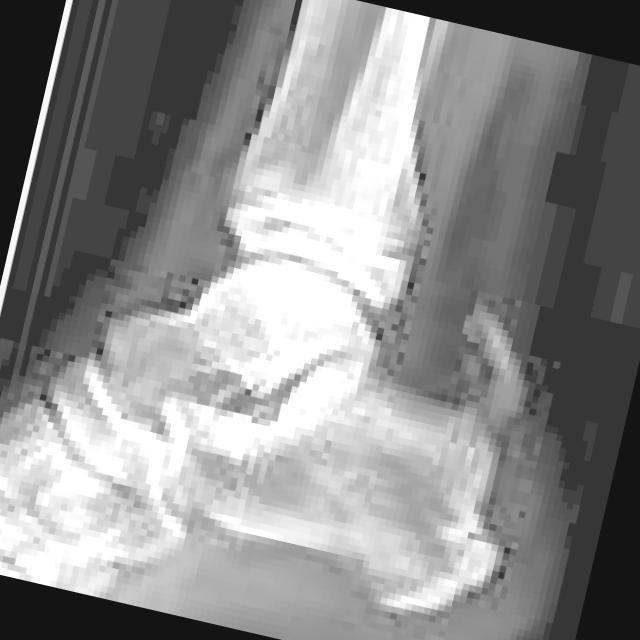Avlusion Fracture: (463, 307, 529, 433)
